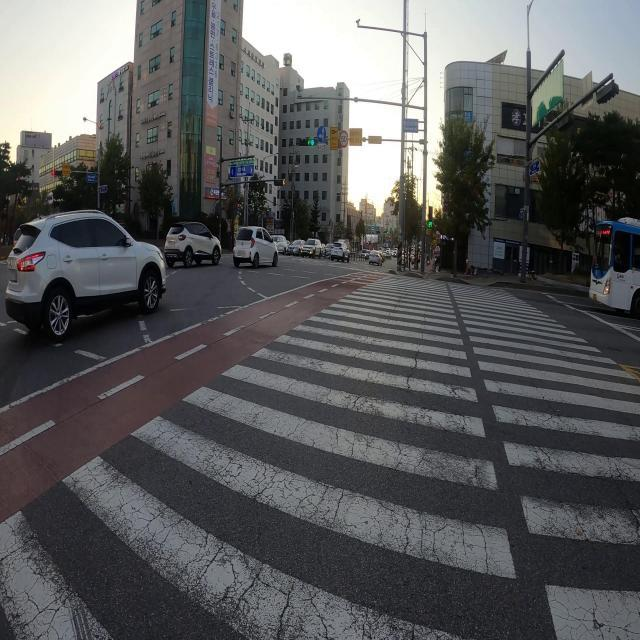crosswalk: (0, 272, 640, 640)
